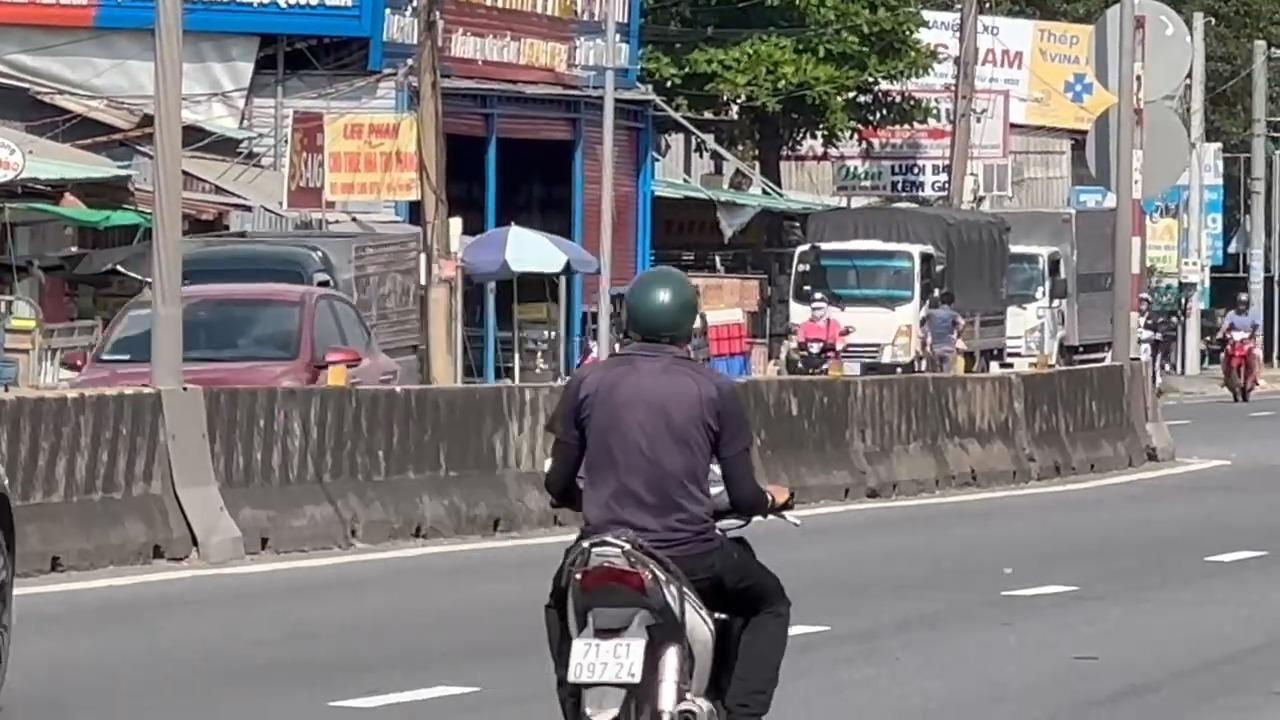bien_so: (565, 635, 645, 685)
